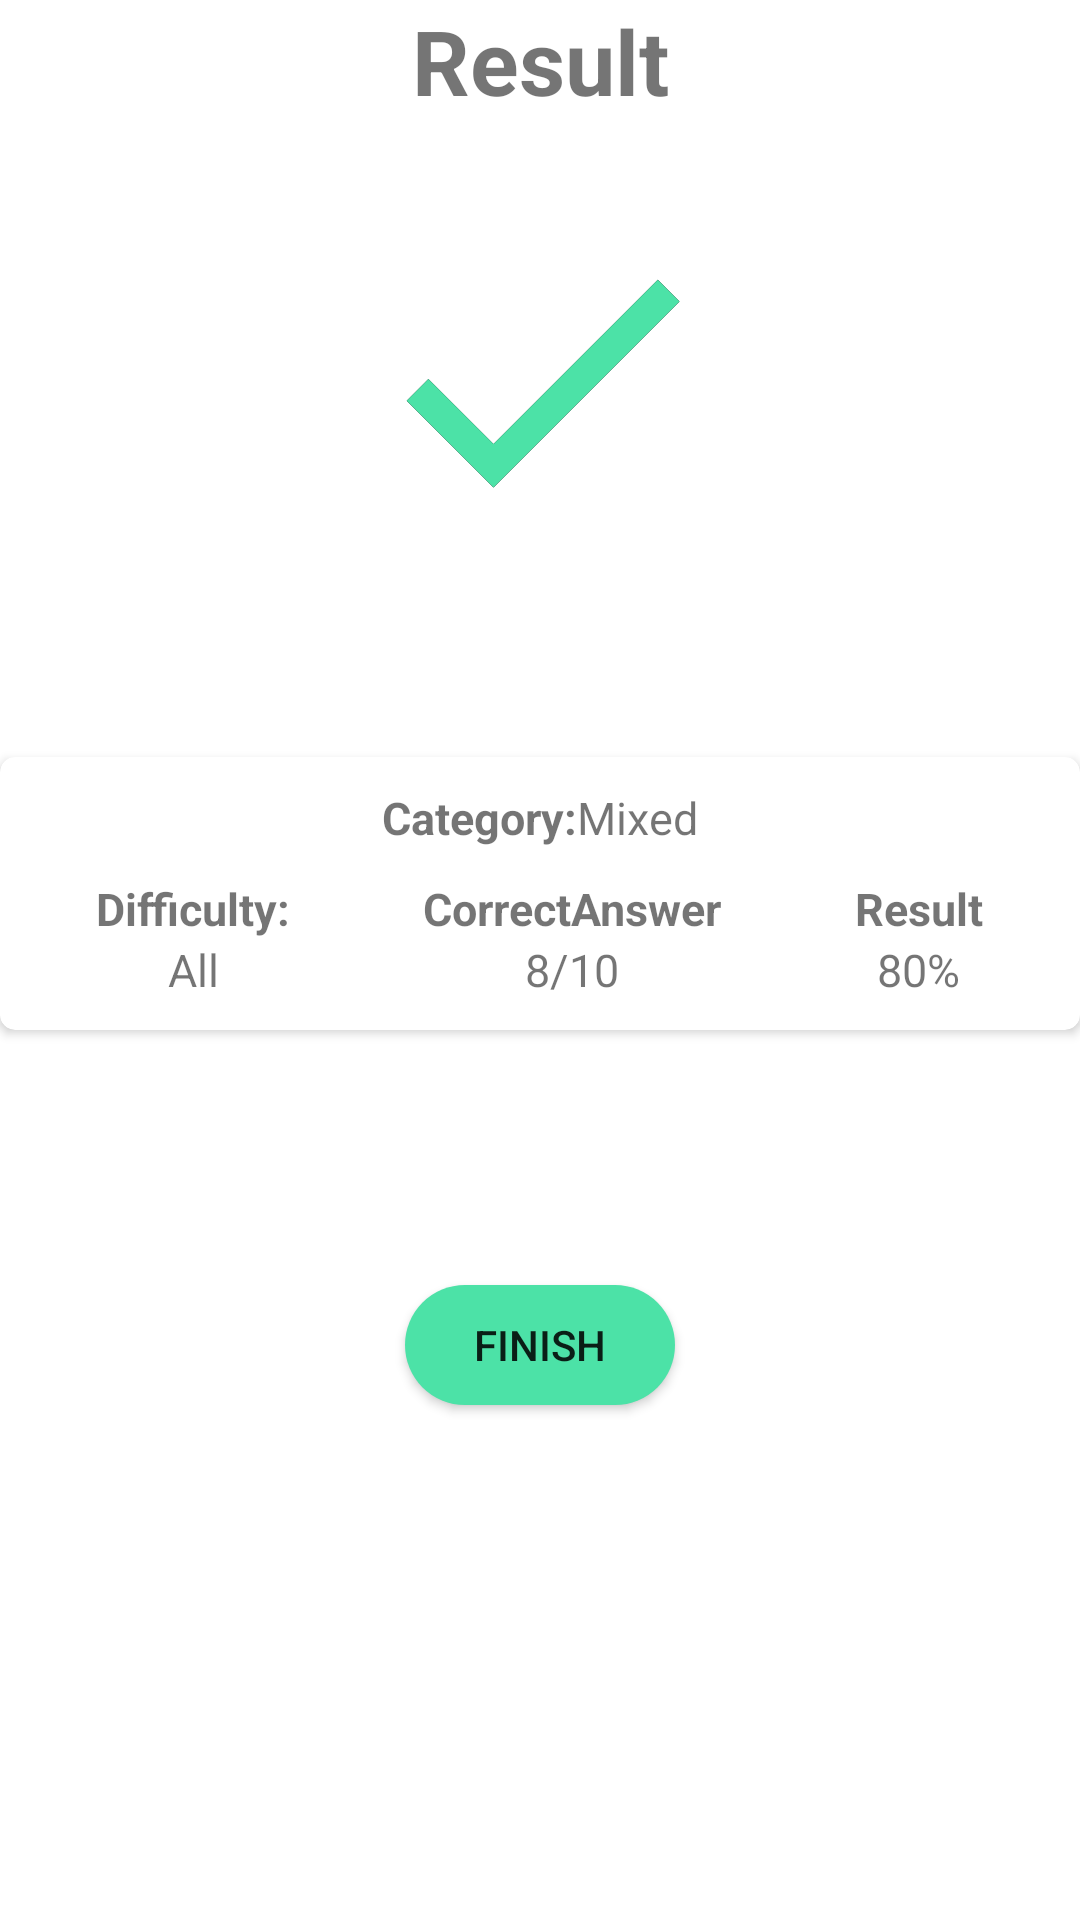

Icons on this 1080px×1920px Android screen, each with the point to tap as (x=x, y=y):
done ok: (x=543, y=383)
